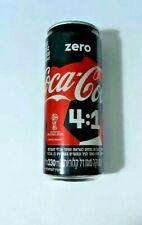metal: (44, 22, 103, 177)
